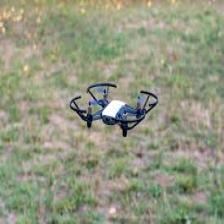drone: (70, 82, 158, 138)
